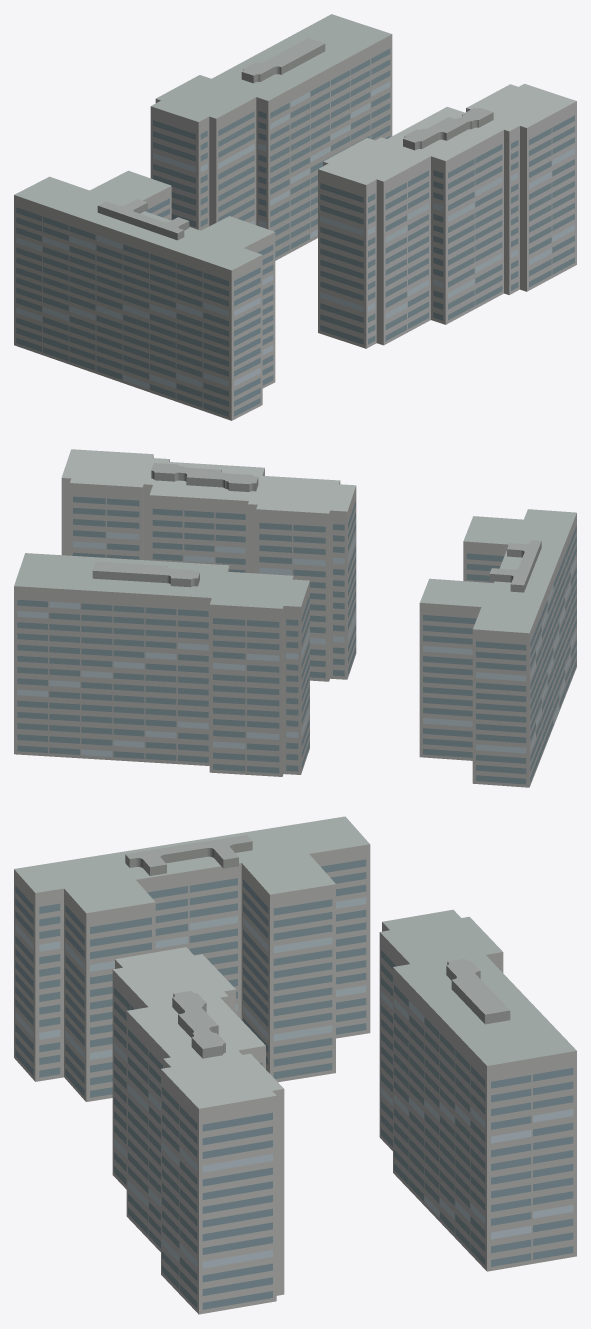
Rendered from apt-a13770607.glb.
3 views of the same model, one above another, from view 1: azimuth 30°, elevation 25°; view 2: azimuth 150°, elevation 25°; view 3: azimuth 270°, elevation 25° (orthographic). The views are drawn at different scales.
Parts seen in each view (by area): view 1: apt-a13770607; view 2: apt-a13770607; view 3: apt-a13770607.
Boxes of the visible parts, x1,y1,x2,y2 form: apt-a13770607: (14, 14, 576, 420); apt-a13770607: (14, 449, 576, 787); apt-a13770607: (14, 816, 576, 1314).
Size of the model in its own units: 151 by 49 by 116.
